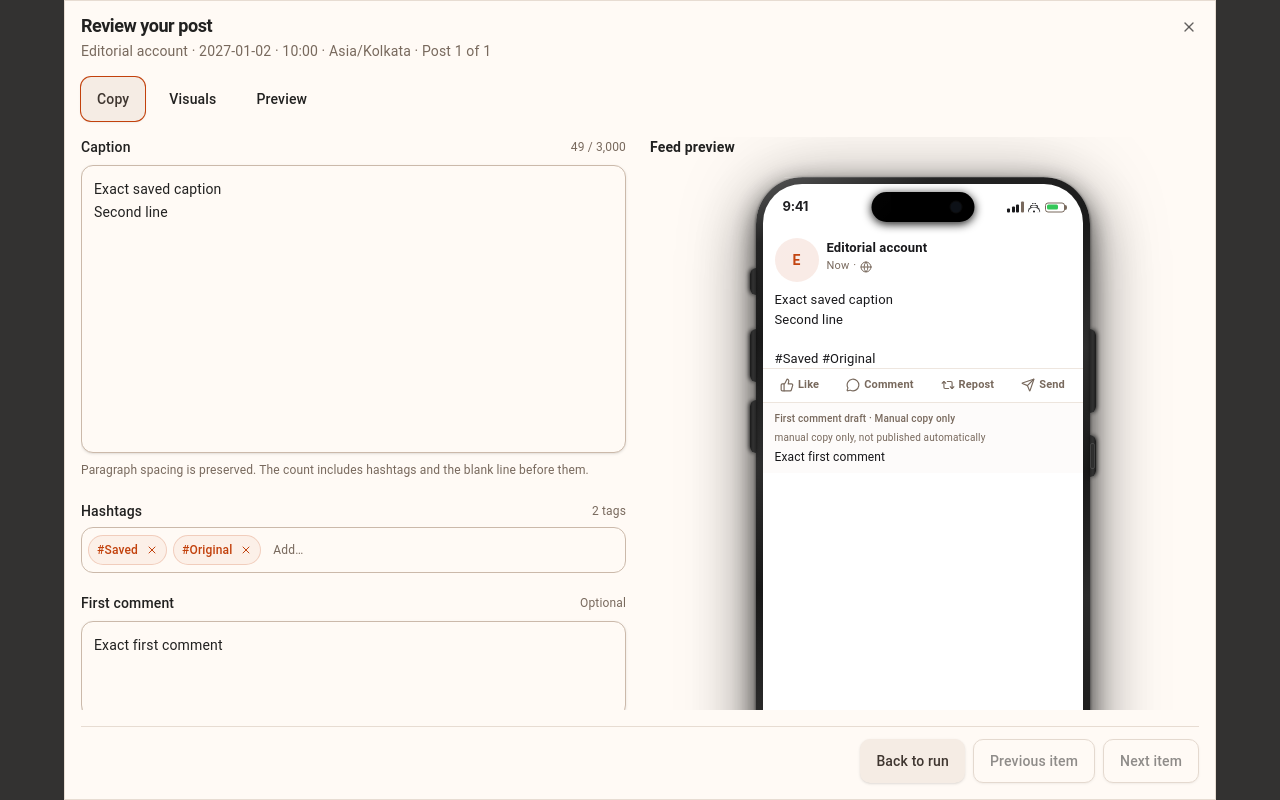
Test: planner preview workspace › attaches only an explicitly chosen listed workspace image at the saved revision
Click the button "Visuals". click: x=193, y=99
box: [153,77,232,121]
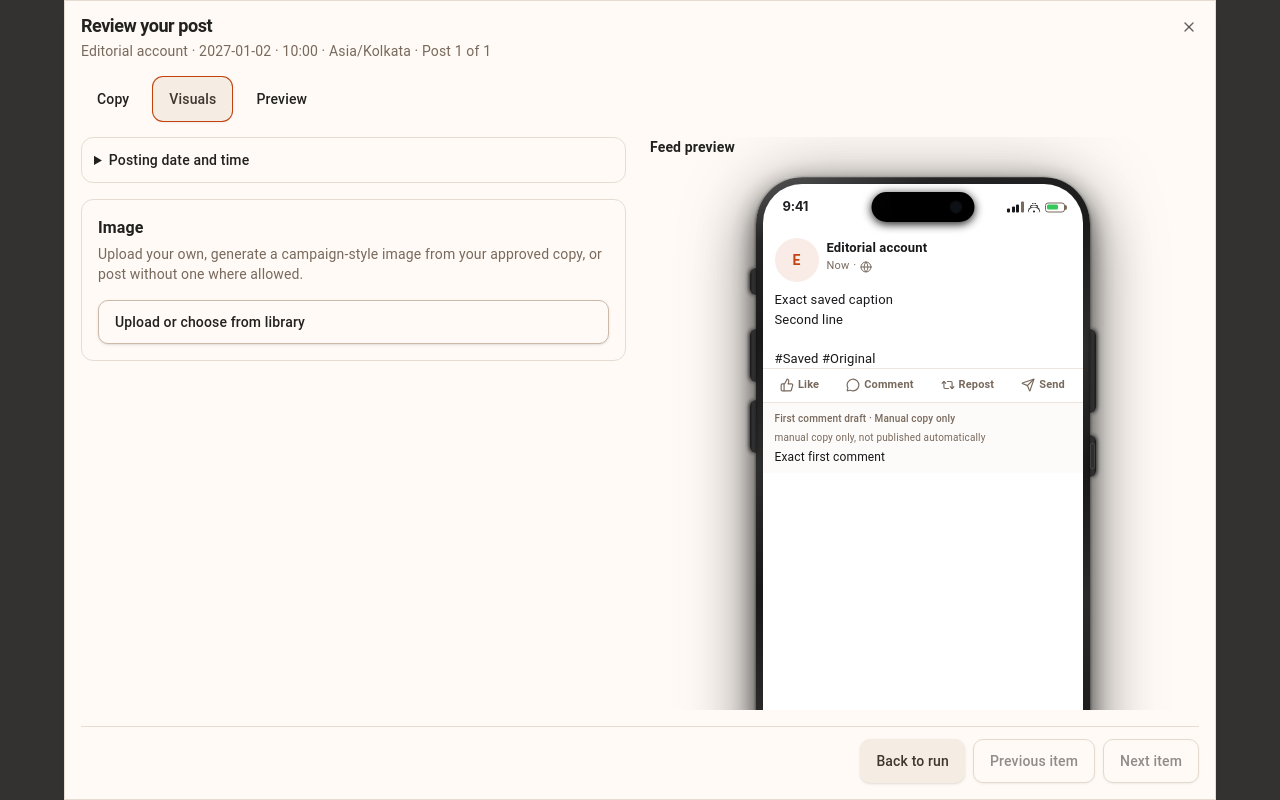
Click the button "Upload or choose from library". click: x=210, y=322
box: [98,300,609,344]
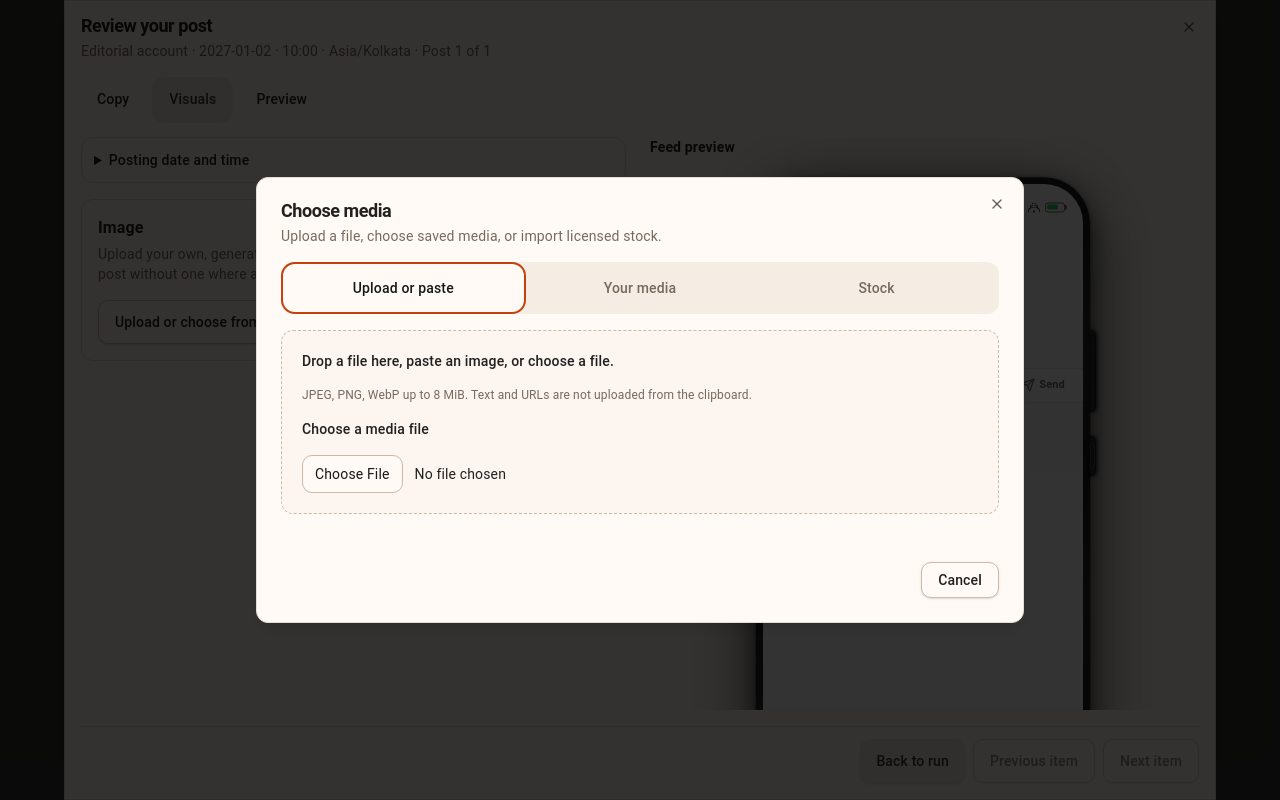
Click the tab "Your media". click: x=640, y=288
box: [522,266,758,310]
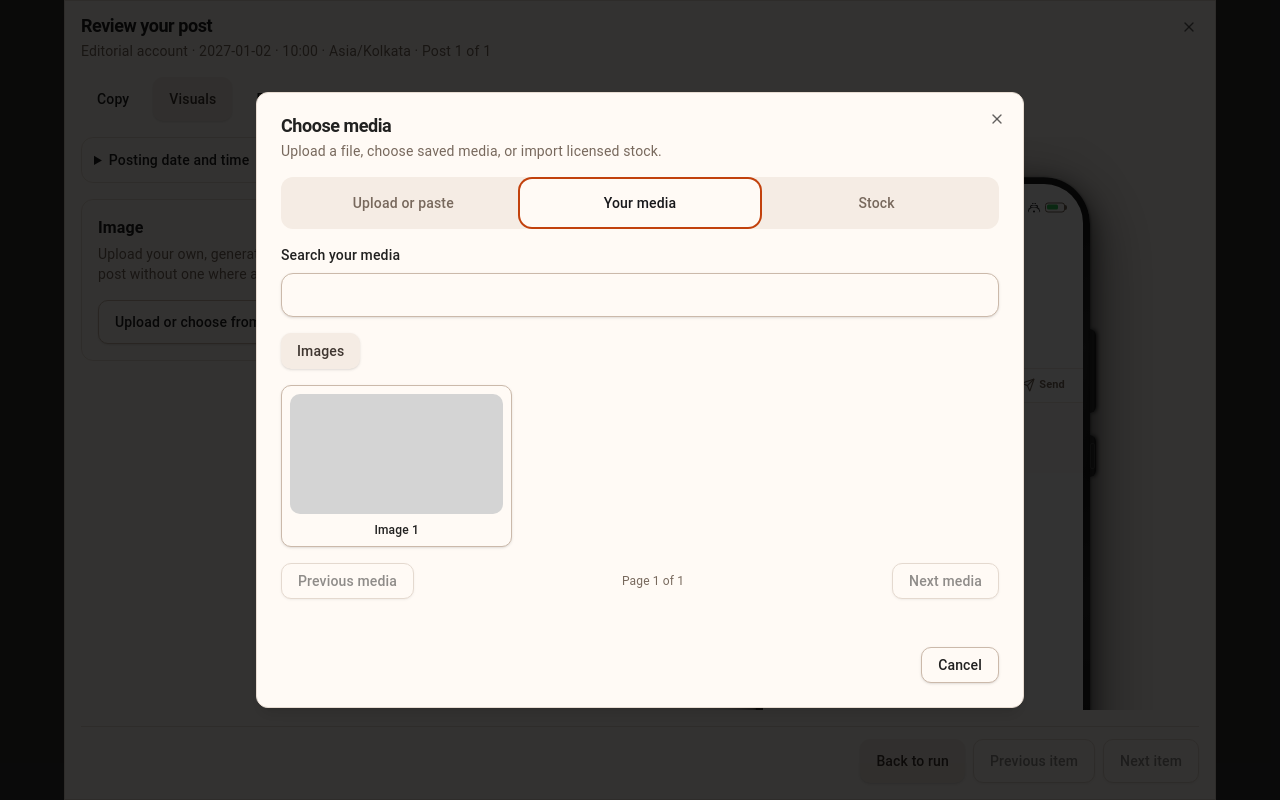
Click the button with aria-label "Choose image 1". click: x=397, y=466
box: [281,385,512,547]
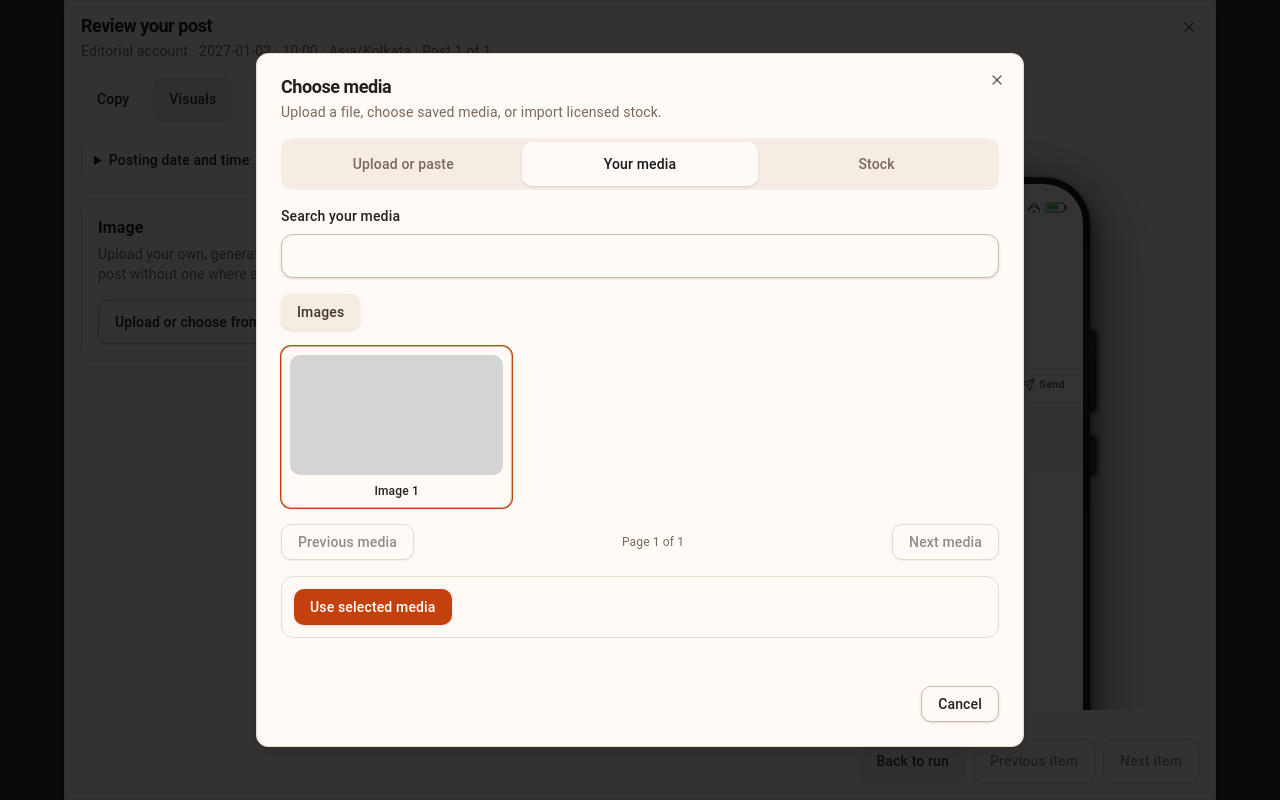
Click the button "Use selected media". click: x=373, y=607
box: [294,589,452,625]
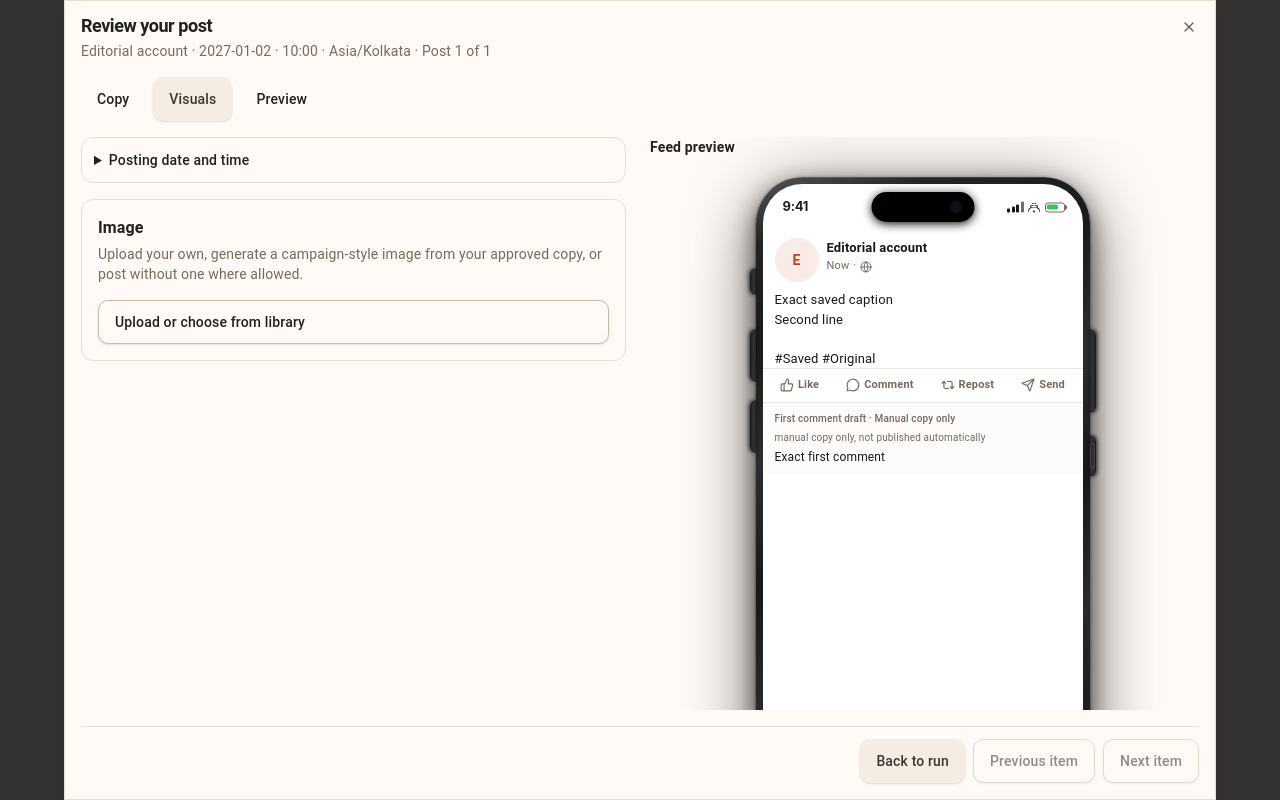
Result: the heading "Choose media" is gone
